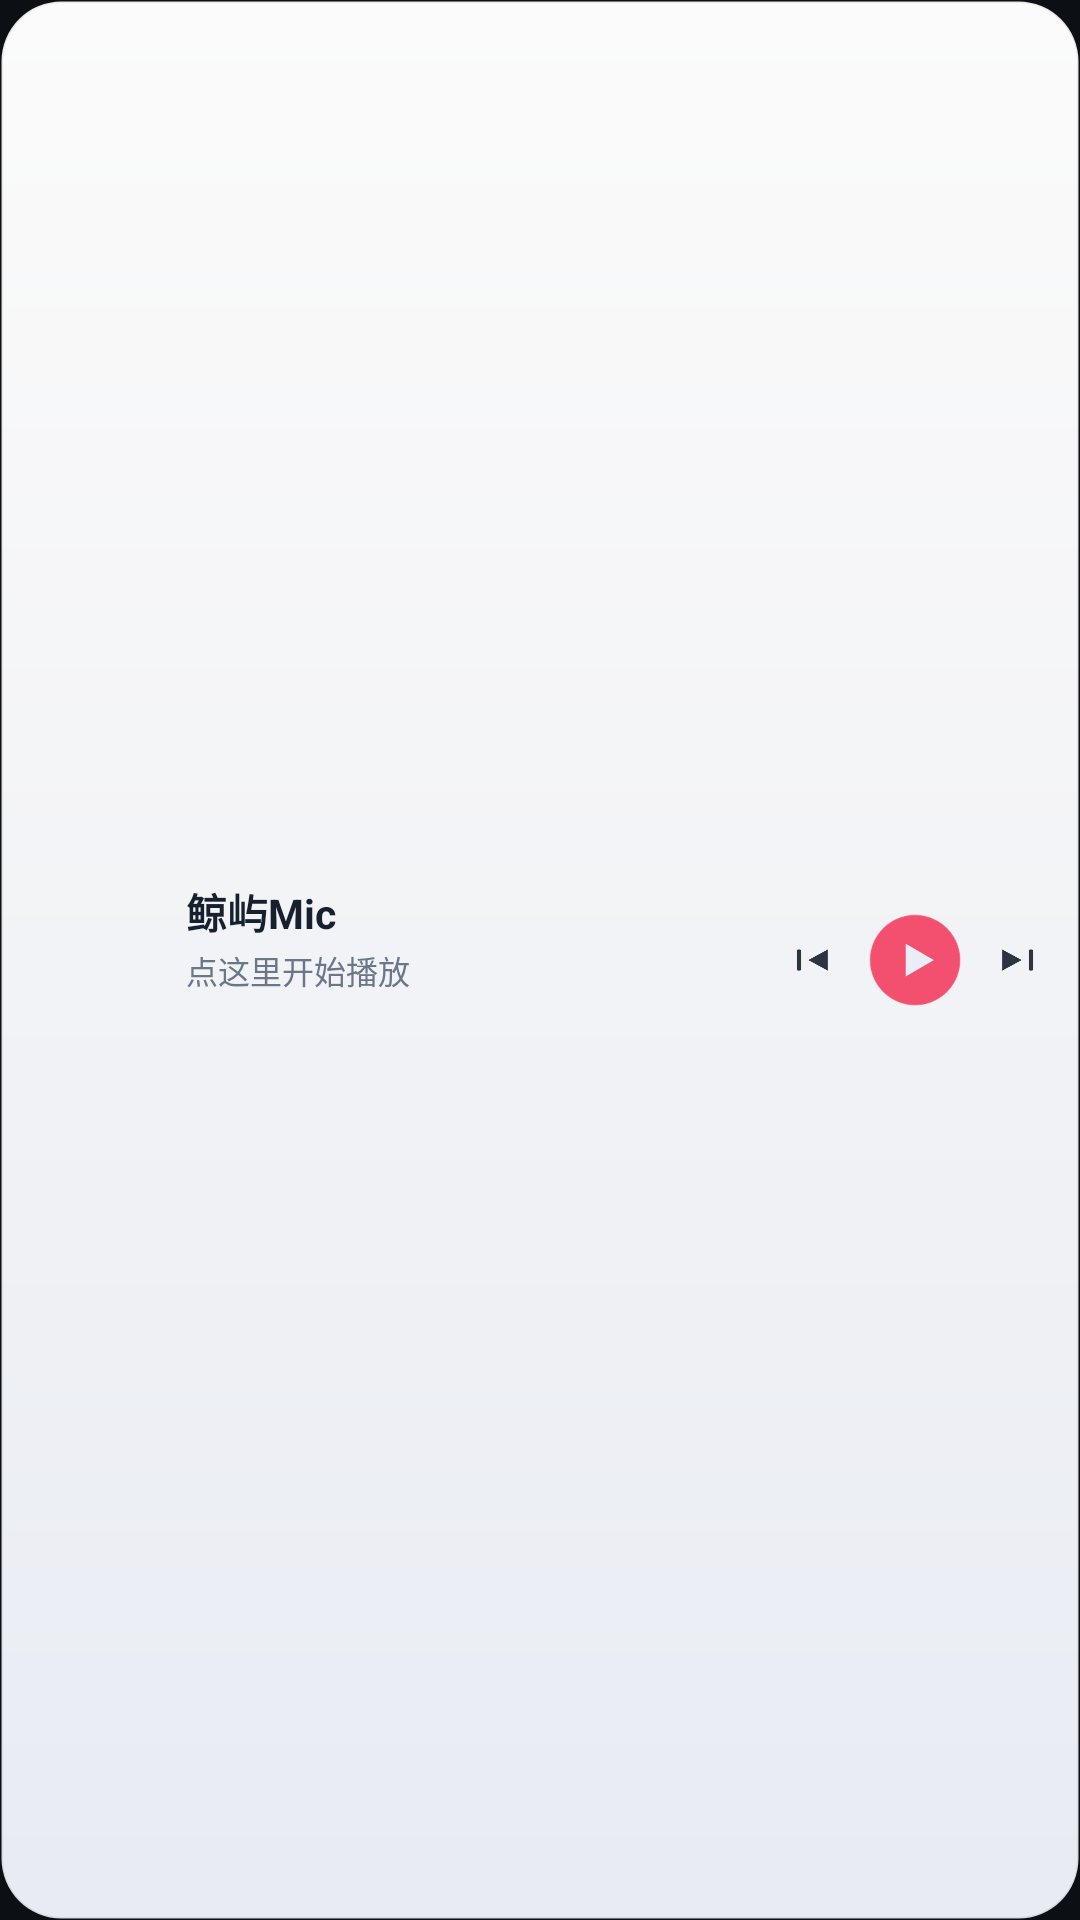

Where icons sit on this 1080 × 1920 app screen, as (x1, y1, x2, y2):
上一首: (797, 949, 828, 971)
下一首: (1002, 949, 1033, 971)
播放 / 暂停: (870, 915, 961, 1006)
